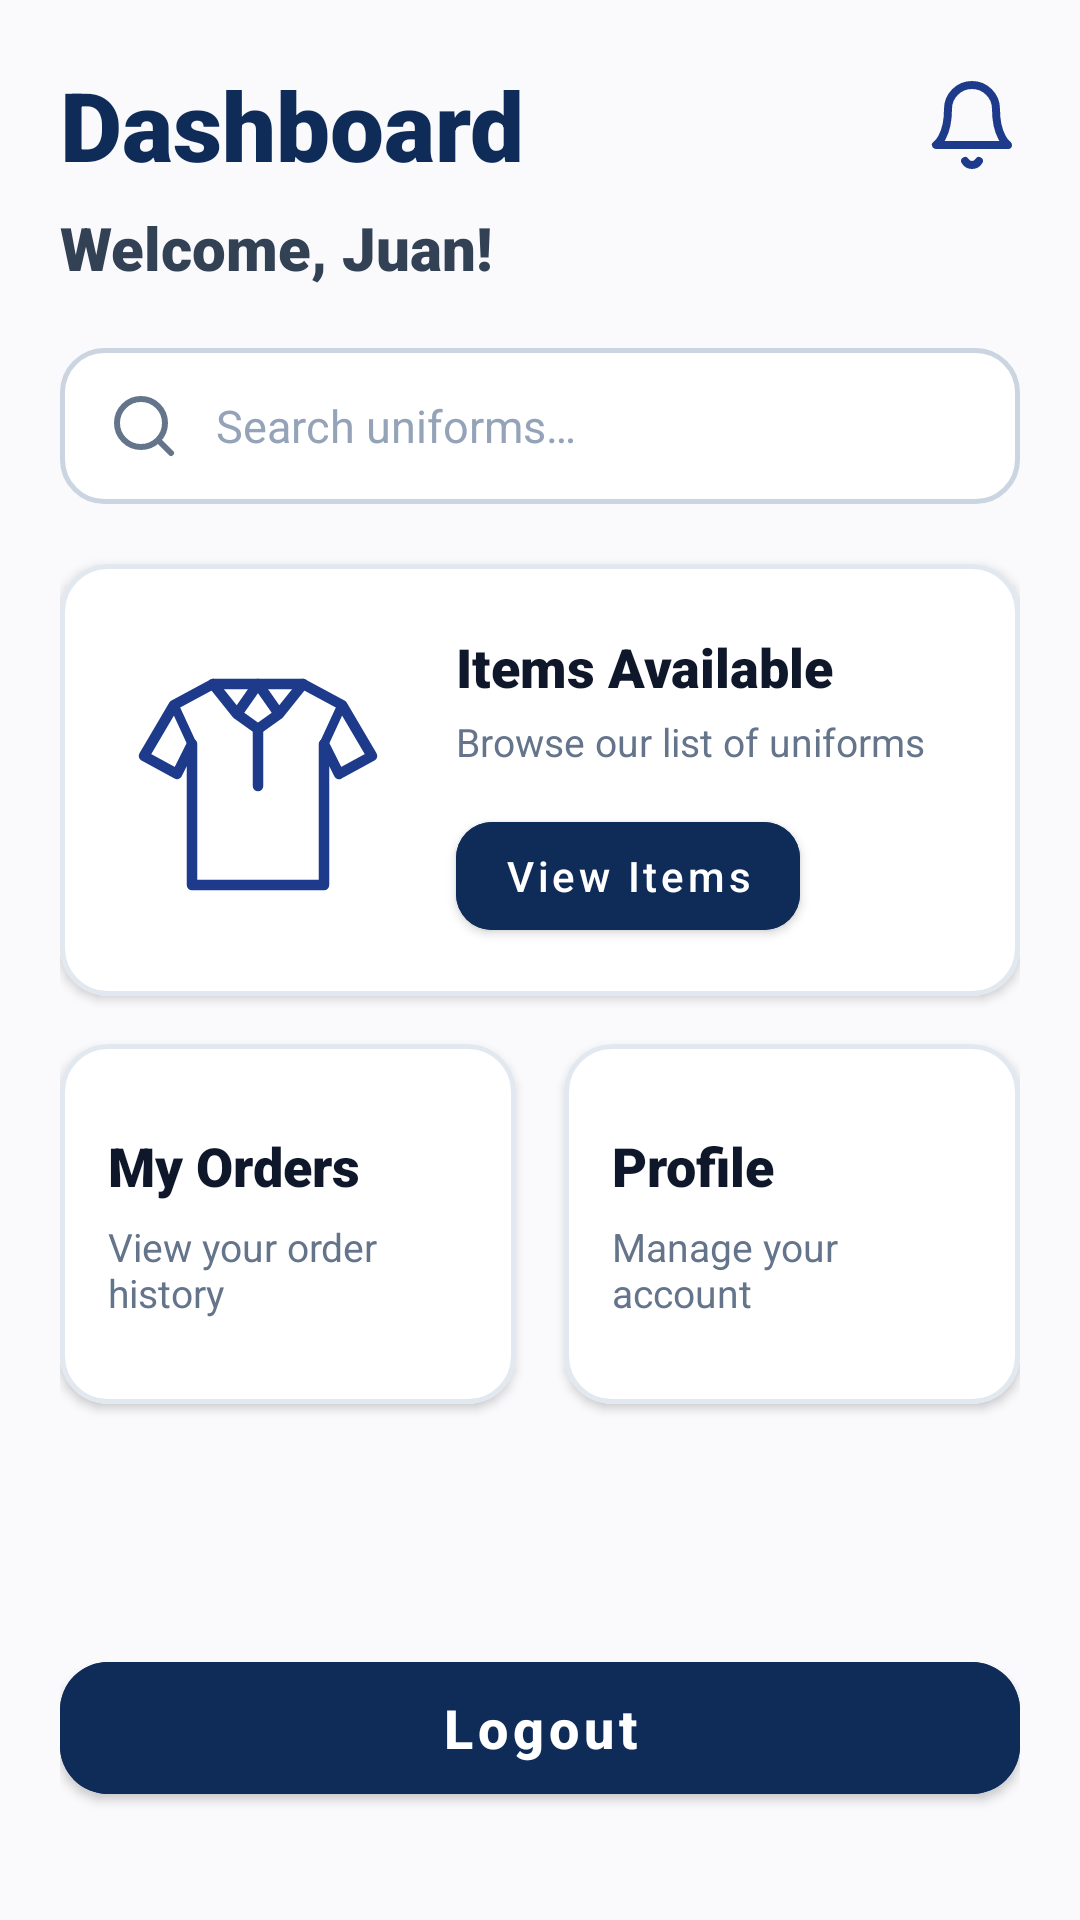

Where icons sit on this 1080 x 1920 app screen, as (x1, y1, x2, y2):
Notification bell: (931, 81, 1012, 169)
